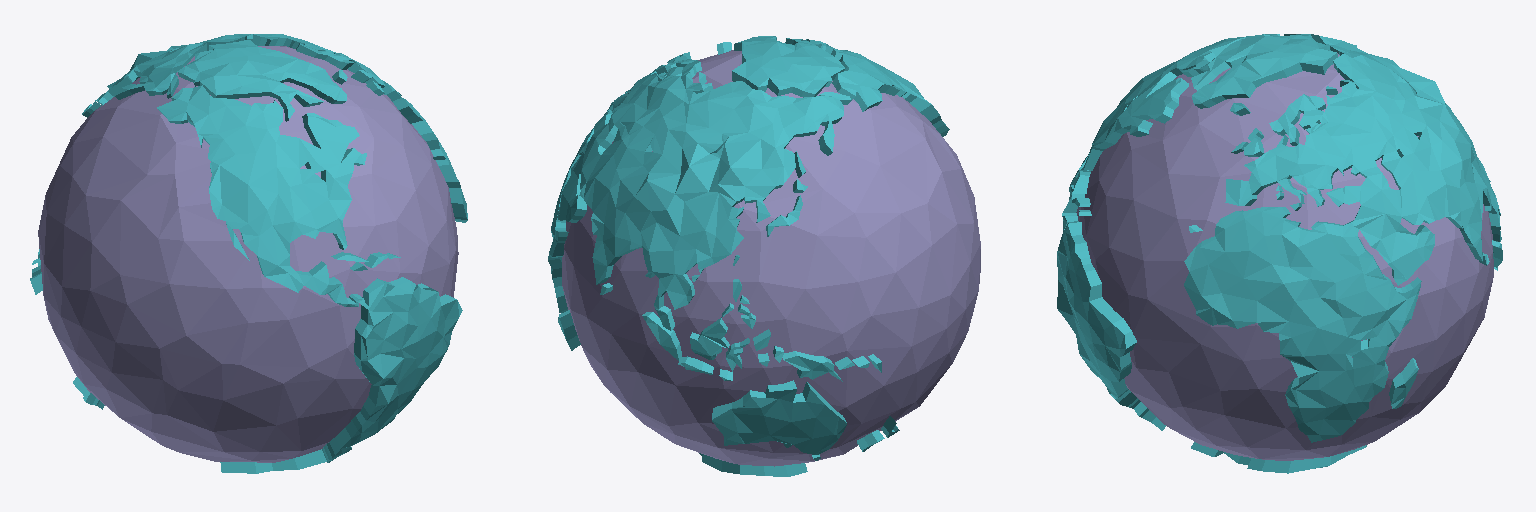
Rendered from LowPolyEarth.obj.
The picture shows the model from 3 angles: view 1: azimuth 30°, elevation 25°; view 2: azimuth 150°, elevation 25°; view 3: azimuth 270°, elevation 25°; orthographic projection.
Visible parts, largest first — view 1: world; view 2: world; view 3: world.
Boxes of the visible parts, x1,y1,x2,y2 form: world: [30, 34, 467, 473]; world: [548, 36, 980, 476]; world: [1057, 34, 1502, 473].
Bounding box in the file's own units: 112 × 114 × 115.